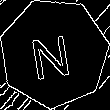N_N: (31, 25, 78, 81)
